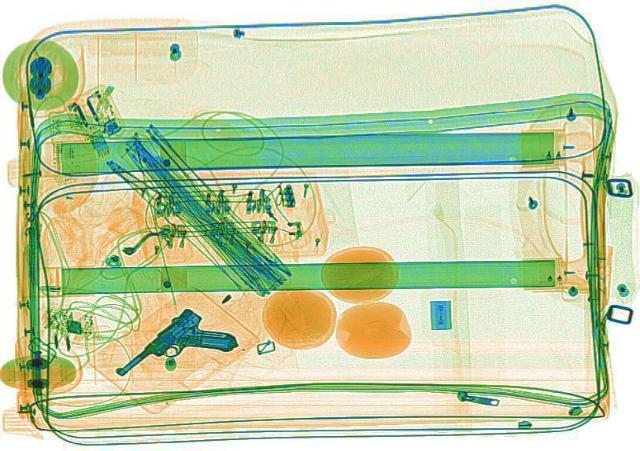Gun: (111, 305, 246, 399)
